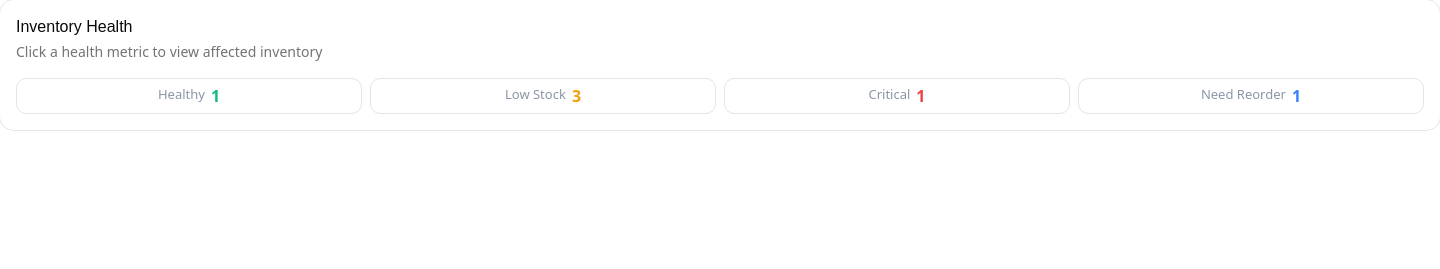
InventoryHealth › filters reorder inventory
Click the button "Need Reorder 1".
click(1251, 96)  # box [1078, 78, 1424, 114]
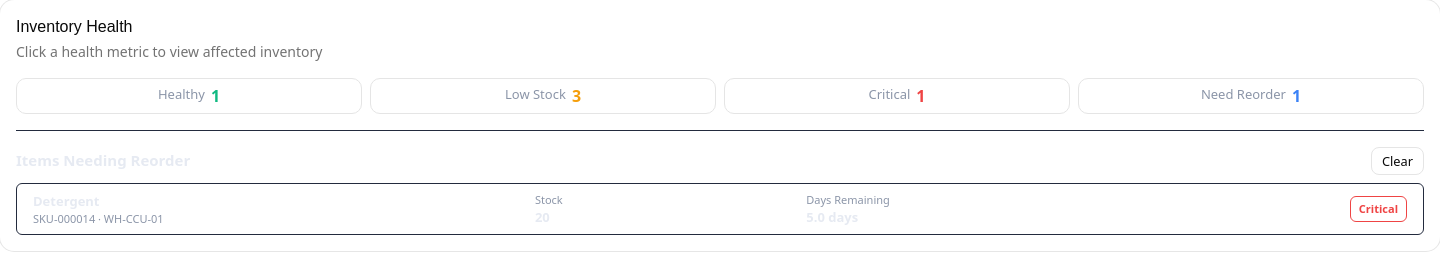
Expected: the heading "Items Needing Reorder" is shown, [16, 150, 190, 172]
Expected: the text "Detergent" is shown, [33, 192, 100, 210]
Expected: the text "5.0 days" is shown, [806, 208, 858, 226]
